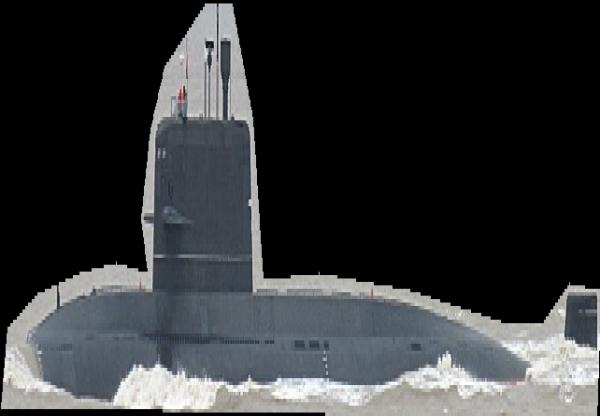Submarine: (1, 2, 600, 416)
